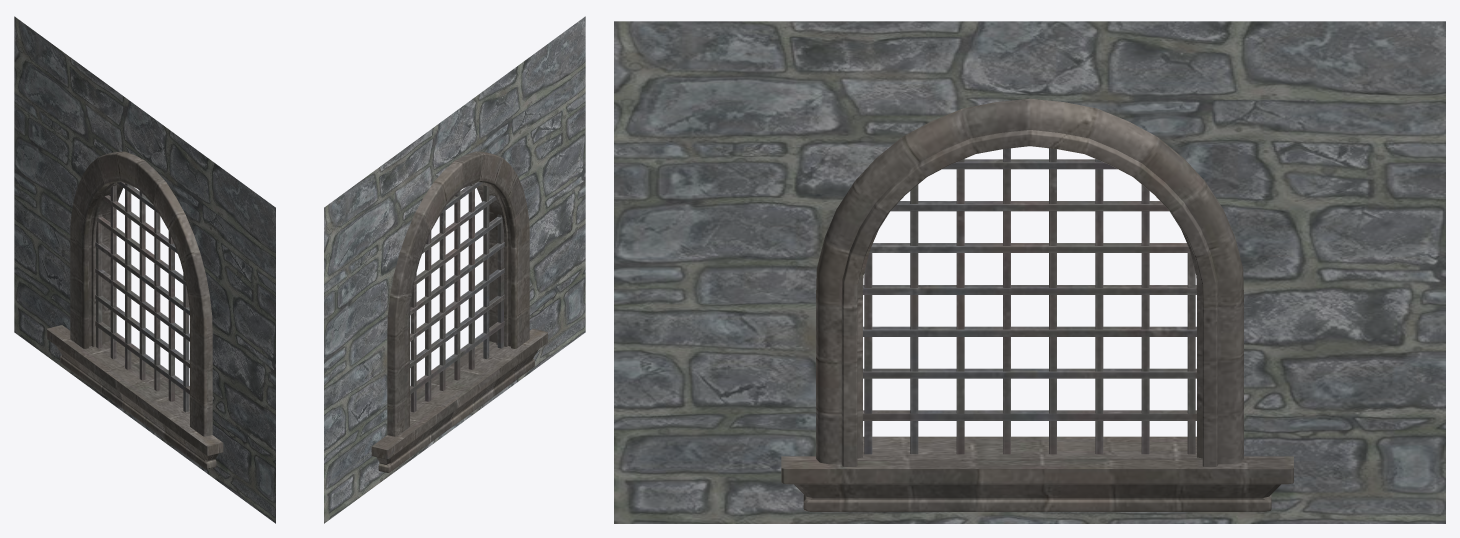
File: SM_Large_Window_Half.glb
The picture shows the model from 3 angles, left to right: view 1: azimuth 30°, elevation 25°; view 2: azimuth 150°, elevation 25°; view 3: azimuth 270°, elevation 25°; orthographic projection. The views are drawn at different scales.
Visible parts, largest first — view 1: SM_Large_Window_Half; view 2: SM_Large_Window_Half; view 3: SM_Large_Window_Half.
Part boxes in pixels (box(x1,y1,x2,y2)): SM_Large_Window_Half: box(14, 16, 275, 523); SM_Large_Window_Half: box(324, 16, 585, 523); SM_Large_Window_Half: box(614, 21, 1445, 523).
Size of the model in its own units: 0.5507 by 4 by 6.
2 materials, 2 textured.
